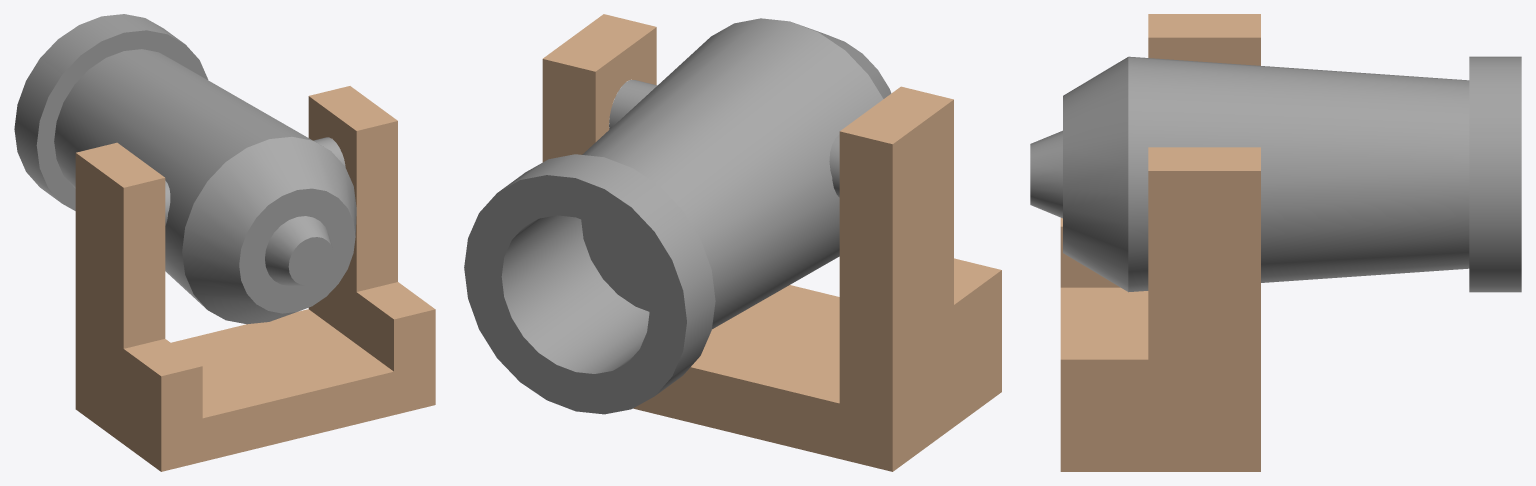
File: cannon.glb
The picture shows the model from 3 angles, left to right: view 1: azimuth 30°, elevation 25°; view 2: azimuth 150°, elevation 25°; view 3: azimuth 270°, elevation 25°; orthographic projection. The views are drawn at different scales.
Visible parts, largest first — view 1: cannon, barrel; view 2: barrel, cannon; view 3: barrel, cannon.
Part boxes in pixels (x1=…): cannon: x1=75, y1=86, x2=435, y2=471; barrel: x1=14, y1=14, x2=356, y2=324; barrel: x1=464, y1=18, x2=891, y2=414; cannon: x1=542, y1=14, x2=1001, y2=471; barrel: x1=1030, y1=56, x2=1521, y2=292; cannon: x1=1060, y1=14, x2=1260, y2=471.
Bounding box in the file's own units: 0.4345 × 0.4209 × 0.5748.
